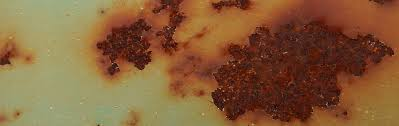rust: (205, 17, 397, 118), (88, 18, 156, 75), (150, 2, 192, 55), (206, 1, 263, 16), (3, 44, 18, 71)
